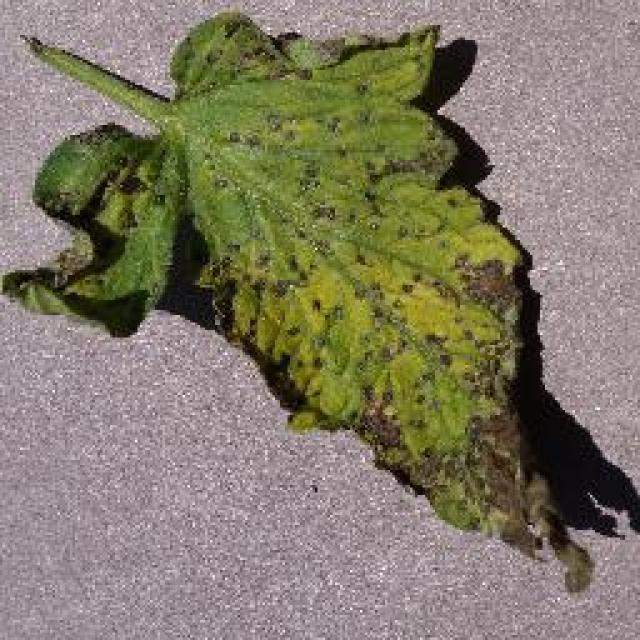Tomato___Septoria_leaf_spot: (0, 12, 590, 588)
